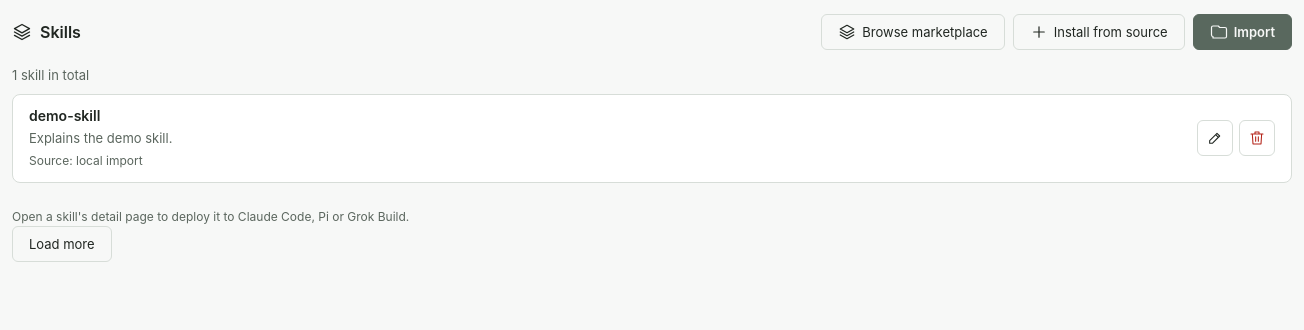
Test: loading more pages keeps the name order and skips repeats
This screenshot has width=1304, height=330.
Click the button "Load more" at (62, 244), box [12, 226, 112, 262]
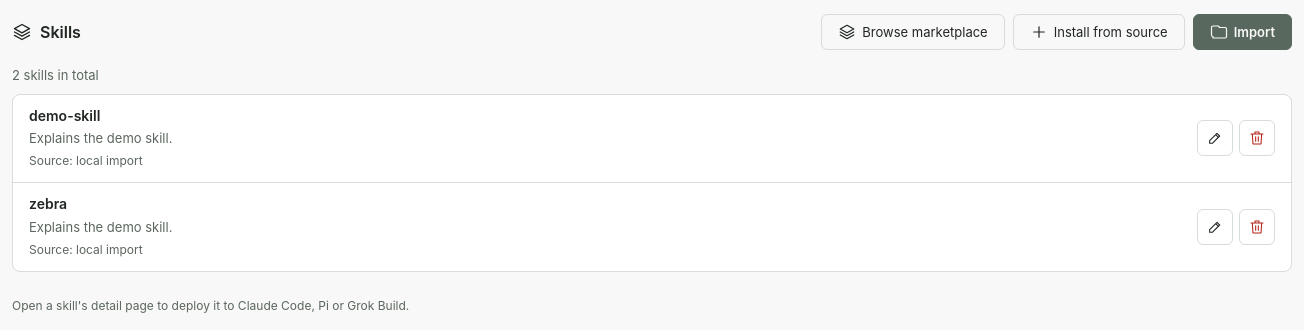
Expected: the number of headings "demo-skill" is 1, [29, 106, 100, 124]
Now the heading "zebra" is shown, box [29, 195, 67, 212]
Now the button "Load more" is gone
